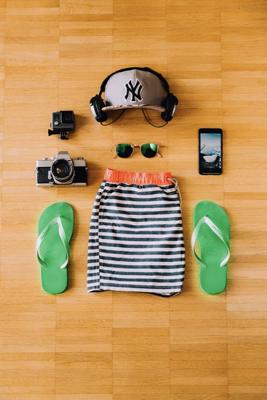Mobile Phone: (197, 127, 223, 175)
